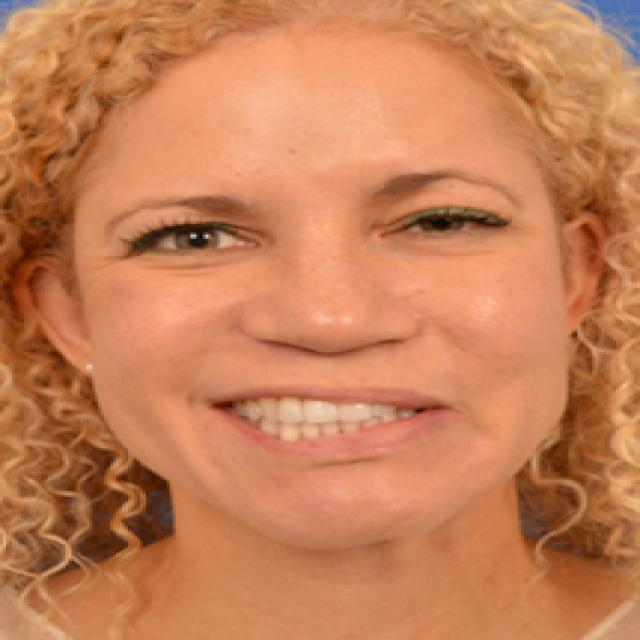stroke_face: (78, 81, 590, 537)
